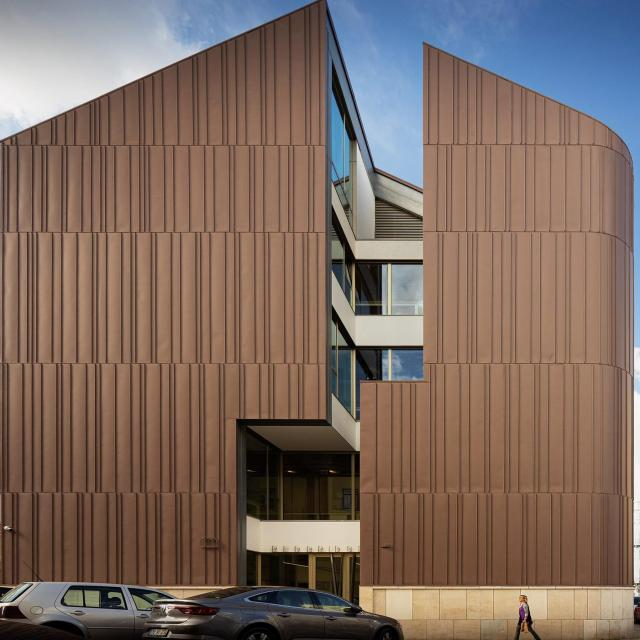door: (309, 555, 360, 610)
wall: (2, 0, 634, 640)
windows: (243, 420, 358, 519), (330, 310, 423, 420), (329, 211, 423, 313), (332, 73, 352, 227)
